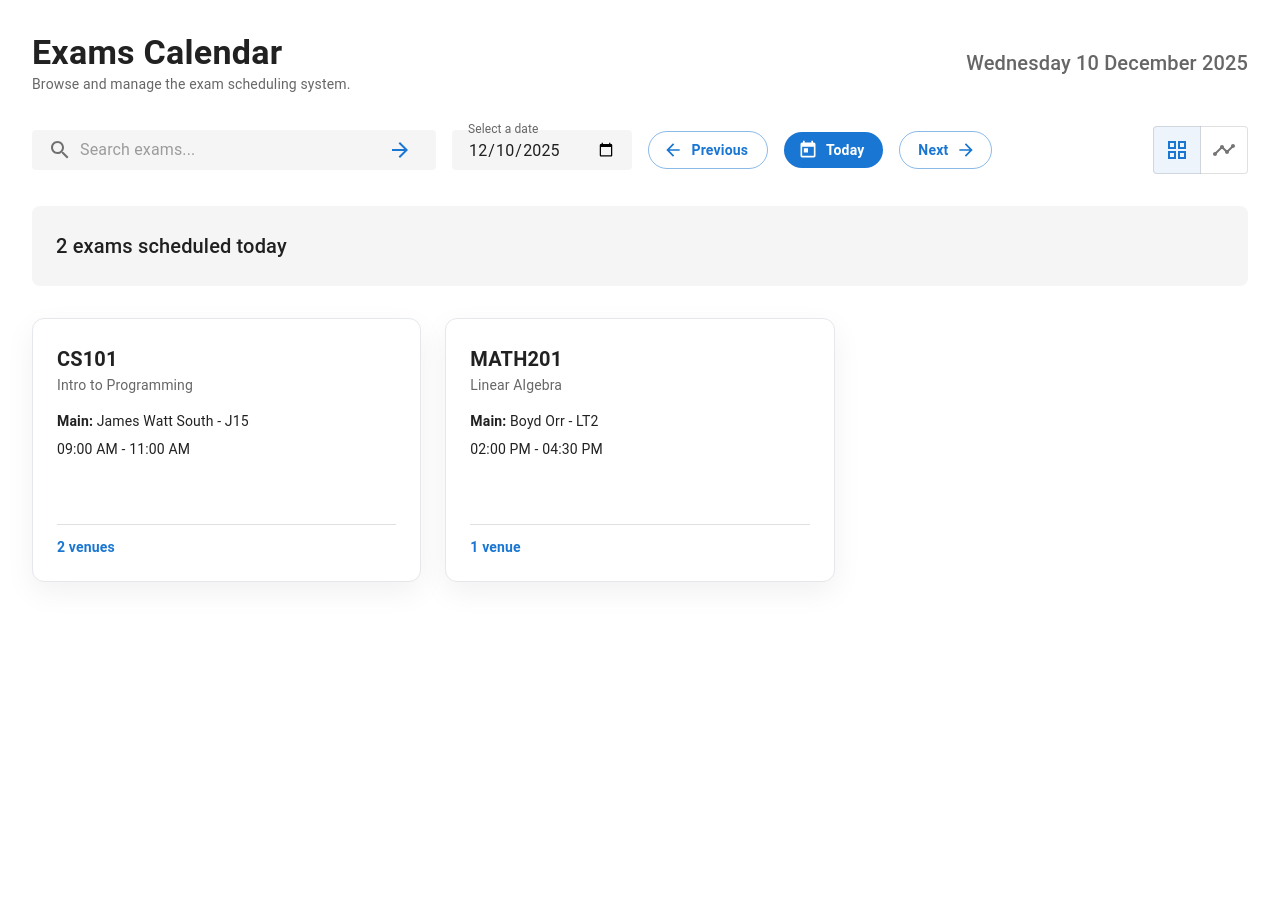
AdminCalendar › toggles timeline view and renders bars
Click the button with test id "timeline-btn" at (1224, 150), box [1200, 126, 1248, 174]
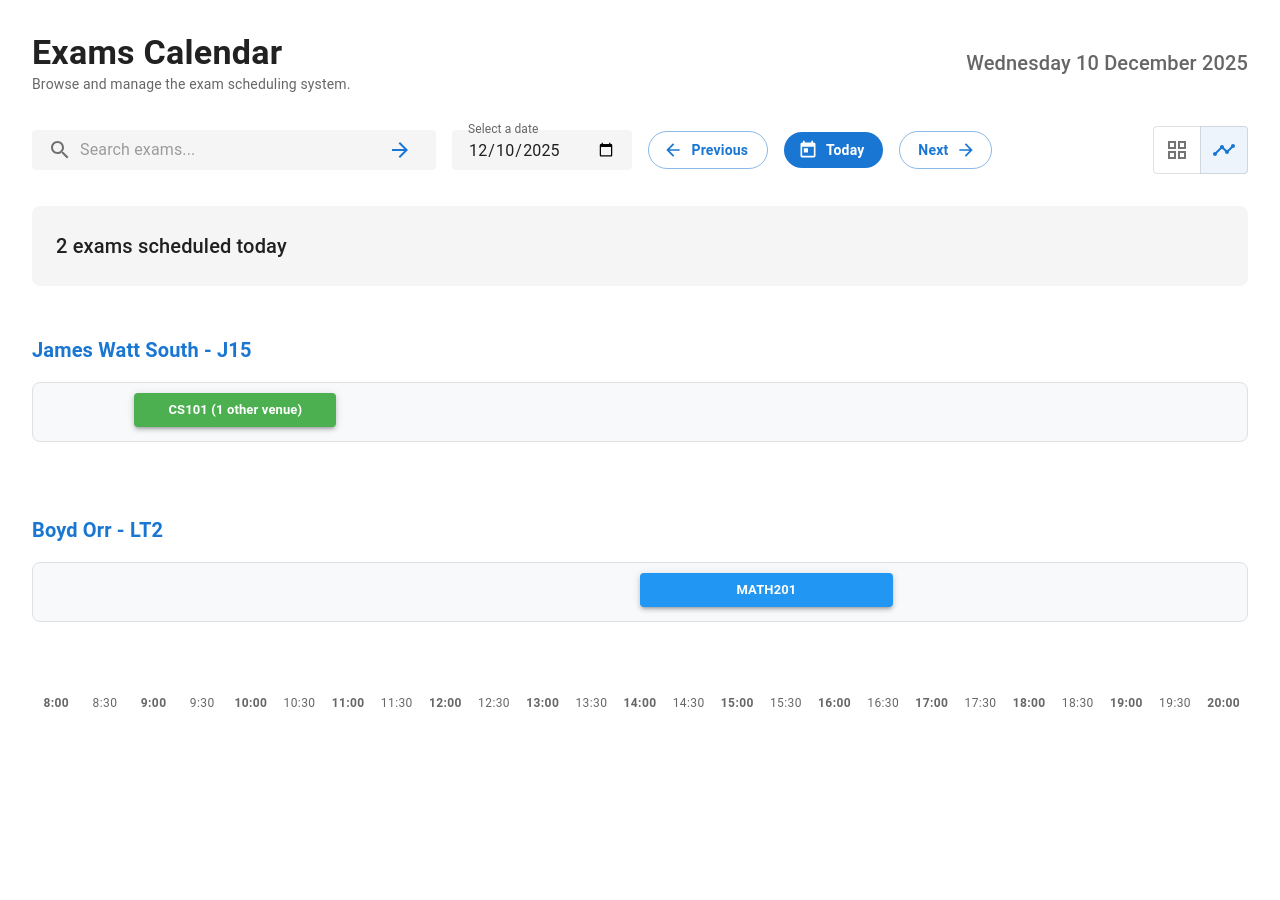
Expected: the text "CS101 (1 other venue)" is shown, [134, 393, 336, 427]
